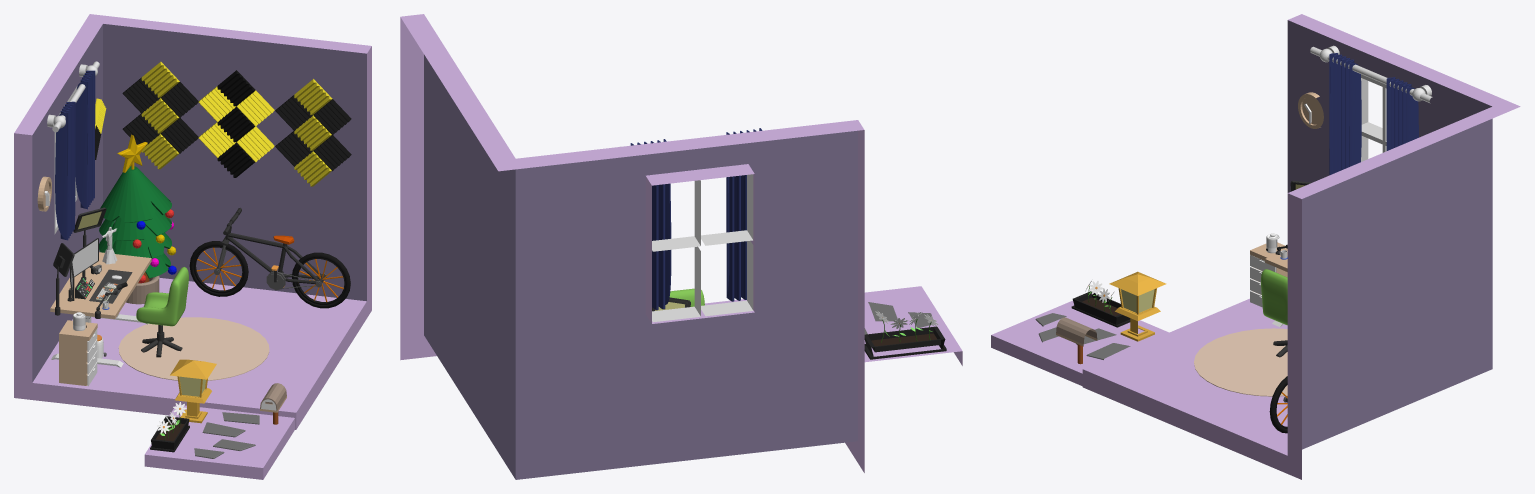
File: room-smoke.gltf
3 views of the same model, side by side, from view 1: azimuth 30°, elevation 25°; view 2: azimuth 150°, elevation 25°; view 3: azimuth 270°, elevation 25° (orthographic). The views are drawn at different scales.
Visible parts, largest first — view 1: Room, Carpet, Contact Area Floor, Table, Plane.002, Plane.003, Cylinder.006, drawer, Cube.034, Cube.036, Plane.016, Cylinder.005 (+34 smaller); view 2: Room, Window Frame, Contact Area Floor, Plane.002, Plane.003, Plane.006, Plane.016; view 3: Room, Contact Area Floor, Carpet, Plane.002, Plane.003, Cube.036, Window Frame, Cube.034, Plane.006, drawer, Plane.016, Cylinder.025 (+1 smaller).
Part boxes in pixels (<box>): Room: <box>14,14,371,429</box>; Carpet: <box>118,317,269,380</box>; Contact Area Floor: <box>144,404,294,479</box>; Table: <box>50,252,151,367</box>; Plane.002: <box>55,101,75,240</box>; Plane.003: <box>75,70,95,209</box>; Cylinder.006: <box>100,166,171,222</box>; drawer: <box>59,320,97,386</box>; Cube.034: <box>136,267,188,326</box>; Cube.036: <box>170,359,216,423</box>; Plane.016: <box>194,412,259,458</box>; Cylinder.005: <box>99,205,172,240</box>; Room: <box>400,14,864,479</box>; Window Frame: <box>652,174,753,322</box>; Contact Area Floor: <box>864,286,962,365</box>; Plane.002: <box>726,128,762,301</box>; Plane.003: <box>630,139,671,310</box>; Plane.006: <box>864,326,946,359</box>; Plane.016: <box>864,302,931,334</box>; Room: <box>1082,14,1520,479</box>; Contact Area Floor: <box>991,300,1168,386</box>; Carpet: <box>1194,328,1287,396</box>; Plane.002: <box>1329,53,1361,175</box>; Plane.003: <box>1386,77,1418,150</box>; Cube.036: <box>1109,271,1166,341</box>; Window Frame: <box>1361,74,1386,161</box>; Cube.034: <box>1261,269,1287,325</box>; Plane.006: <box>1071,291,1130,327</box>; drawer: <box>1250,242,1287,307</box>; Plane.016: <box>1035,313,1130,359</box>; Cylinder.025: <box>1056,317,1097,346</box>.
Bounding box in the file's own units: 13.08 × 9.25 × 15.81.
